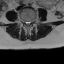CCS_normal: (27, 19, 28, 28)
LFS_normal: (30, 18, 33, 25)
LLS_normal: (28, 18, 30, 27)
RFS_stenosis: (23, 18, 25, 25)
RLS_normal: (25, 18, 27, 27)
